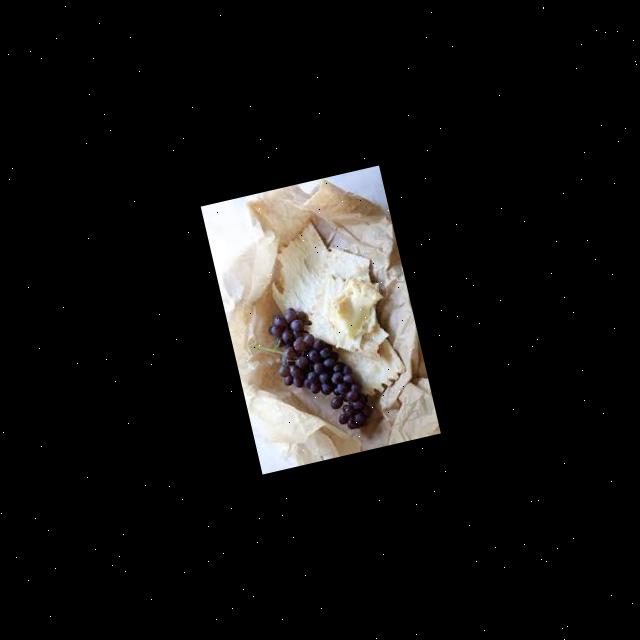grape: (256, 300, 372, 446)
